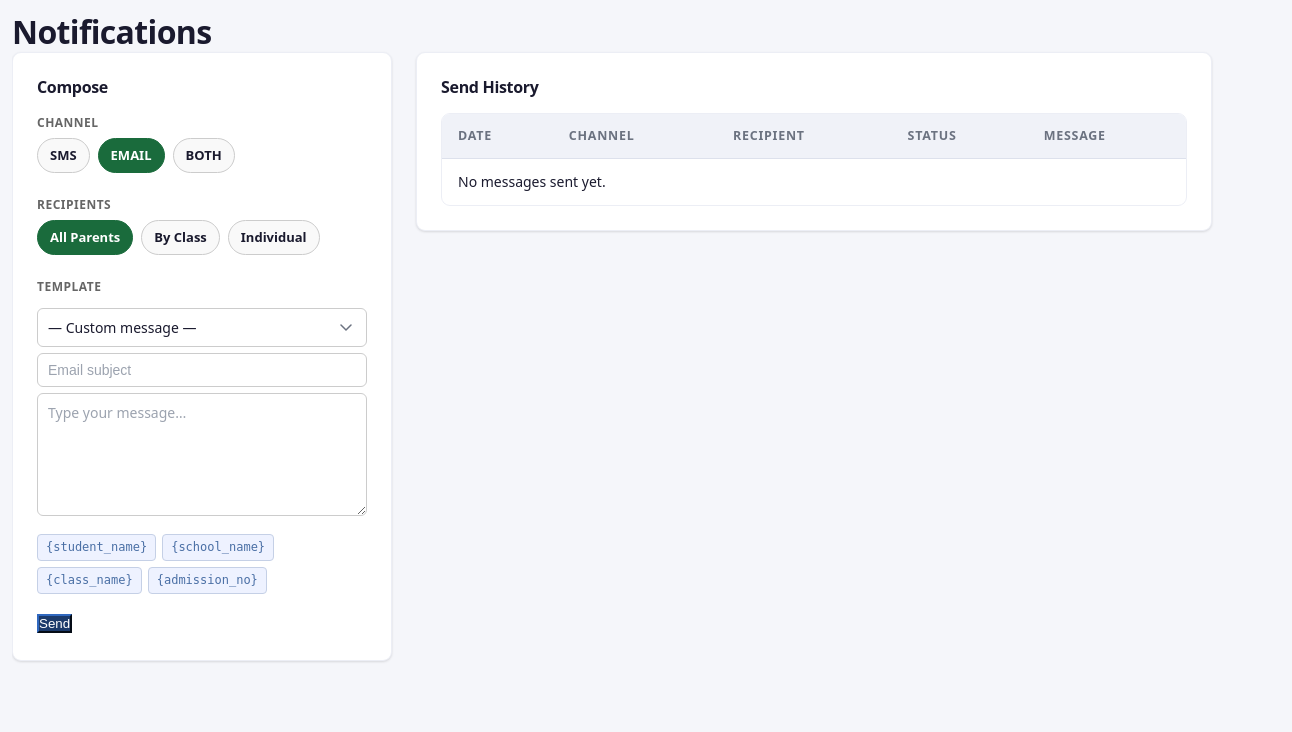
Test: Notifications sends the composed message and reports the delivery summary
The image size is (1292, 732).
Type "School opens Monday." into the text box with placeholder "Type your message…" at (202, 455), box [37, 393, 367, 516]
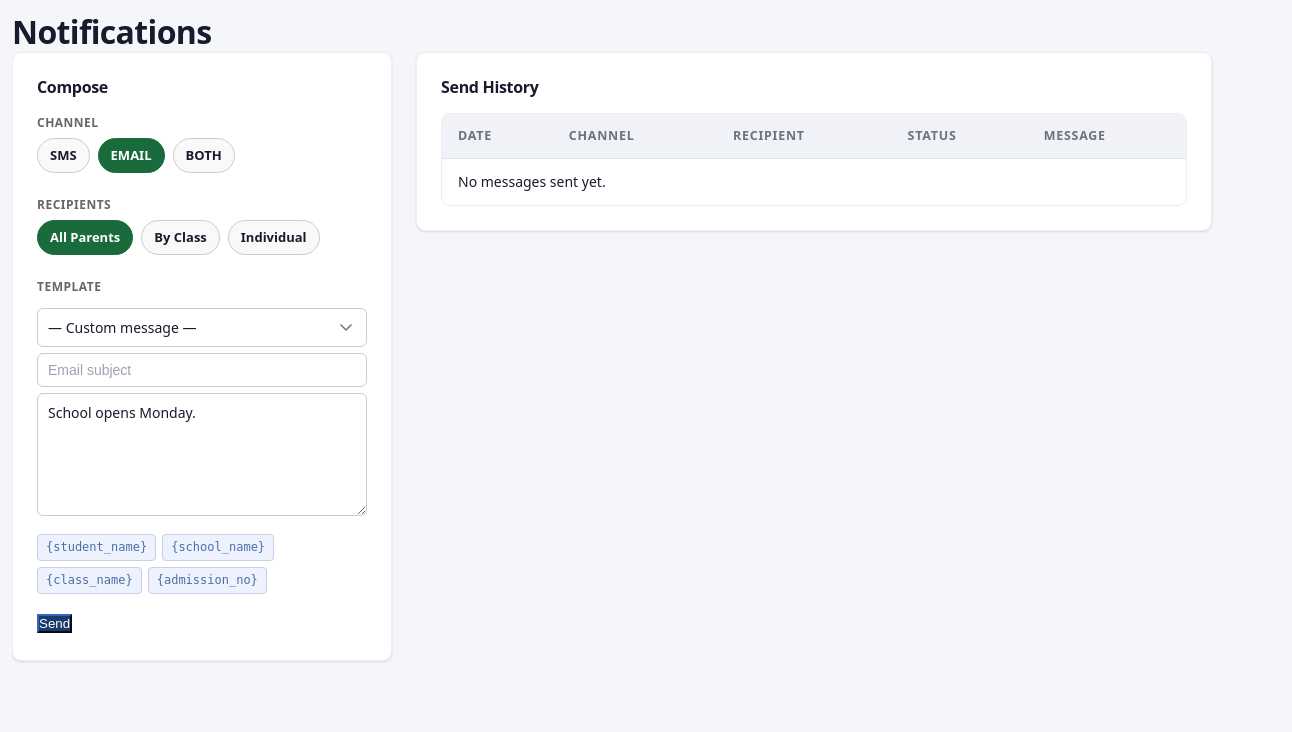
Click the button "Send" at (55, 624), box [37, 614, 72, 633]
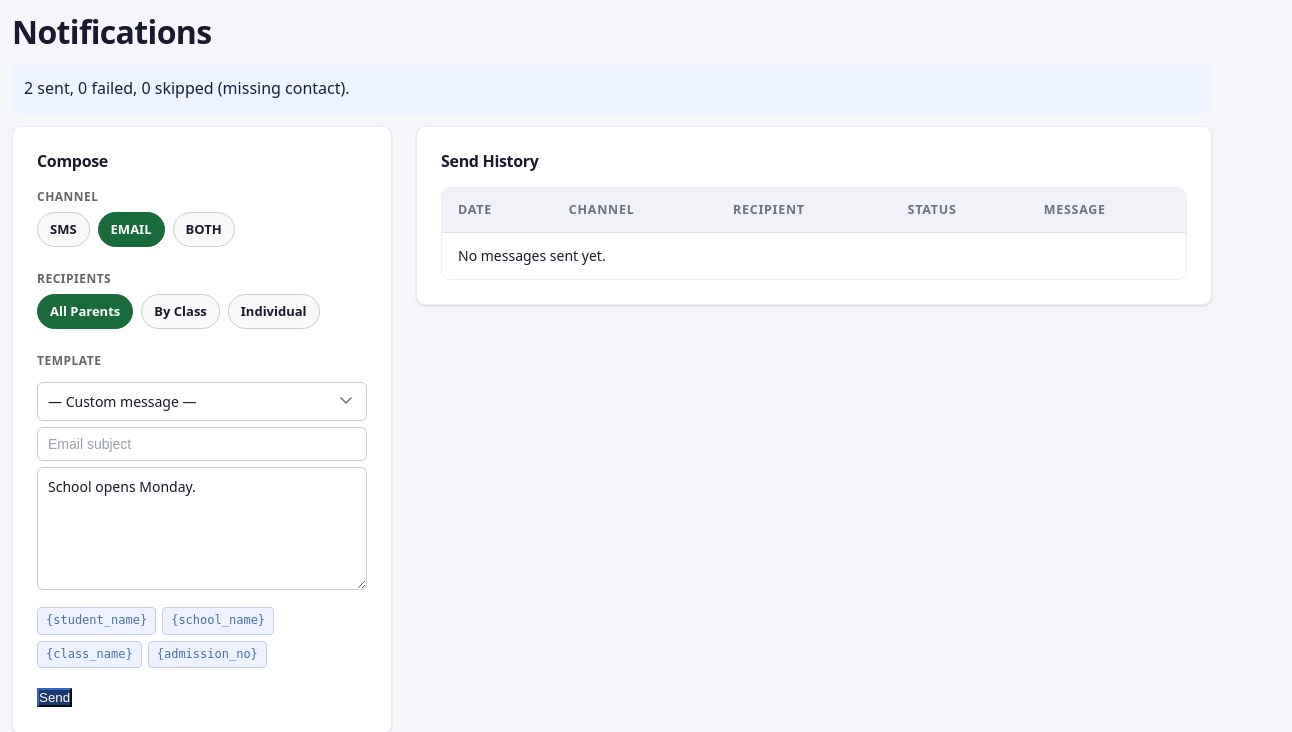
Now the text "2 sent, 0 failed, 0 skipped (missing contact)." is shown, box [12, 64, 1212, 114]
